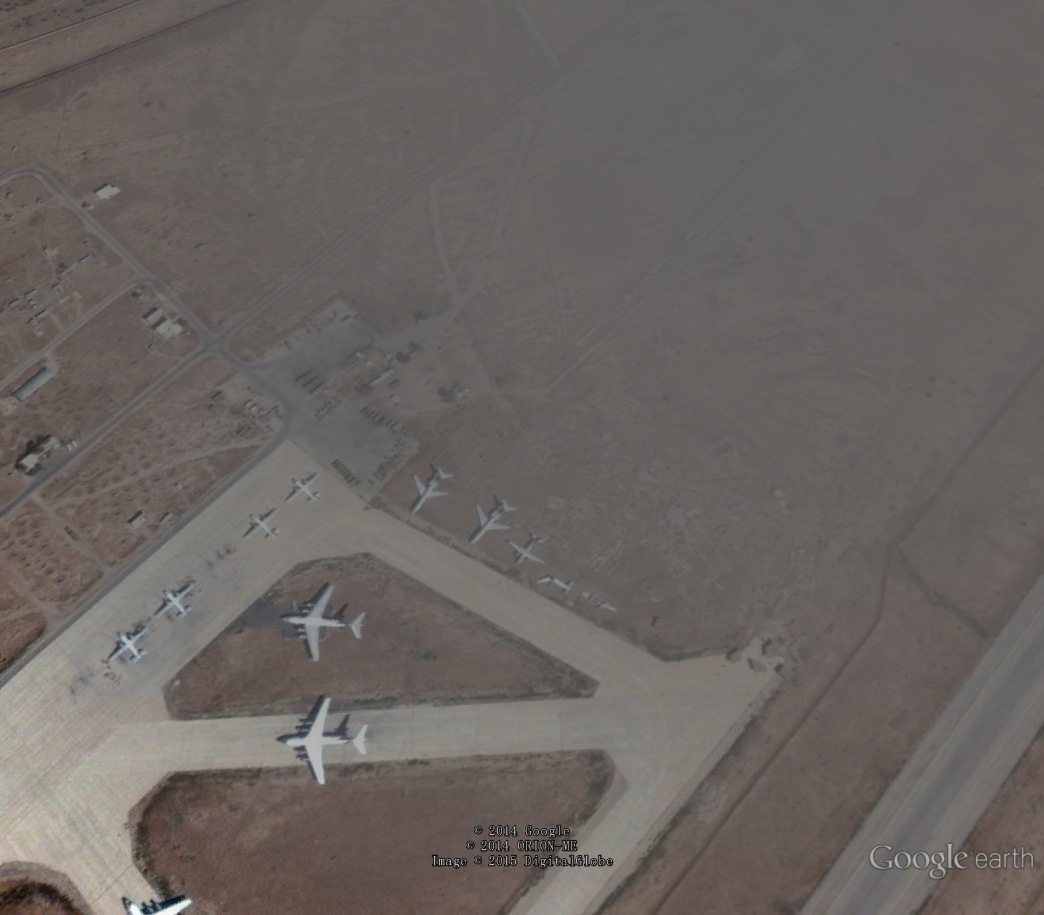aircraft: (279, 694, 370, 788), (281, 583, 369, 664), (470, 498, 517, 546), (412, 464, 455, 514), (107, 625, 149, 665), (156, 583, 195, 620), (509, 534, 550, 568), (244, 508, 279, 540), (286, 474, 320, 504)
